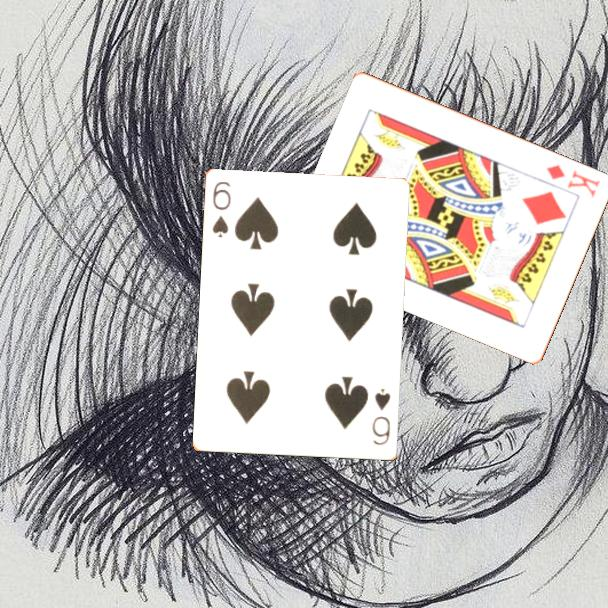d13: (543, 161, 604, 200)
s06: (369, 385, 394, 448), (209, 178, 234, 241)
